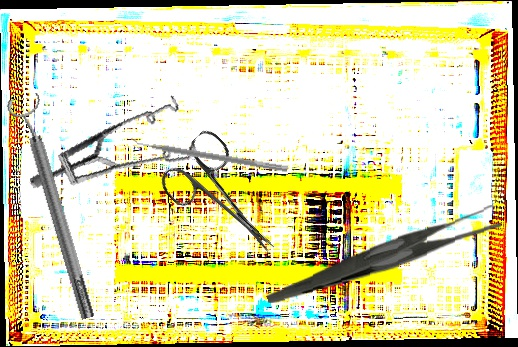Dressing Forceps: (264, 204, 504, 304)
Fixation Ring: (4, 91, 105, 324)
Iris Scissors: (152, 125, 301, 276)
Spatula Surgical: (129, 134, 290, 173)
Speculum: (28, 68, 211, 224)
